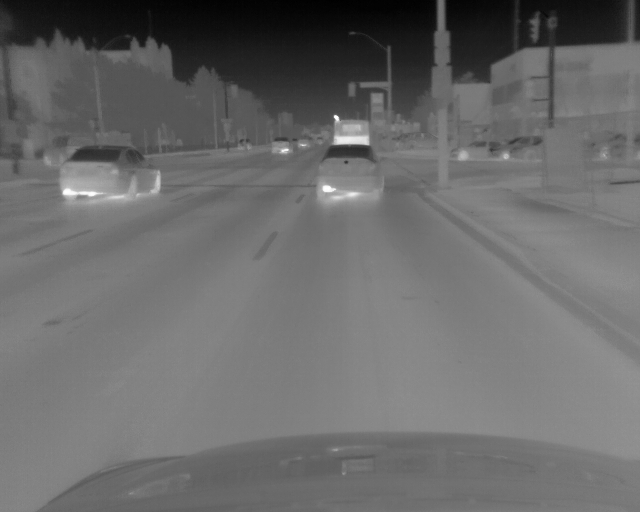car: (57, 146, 164, 200), (316, 145, 385, 202), (495, 136, 537, 161), (333, 118, 369, 146), (453, 138, 494, 162), (41, 144, 81, 166), (393, 131, 437, 150), (272, 137, 293, 156), (296, 136, 311, 150), (237, 139, 252, 151)
